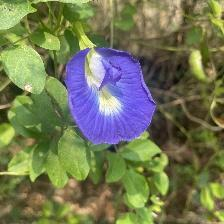shankupushpam: (64, 46, 159, 148)
